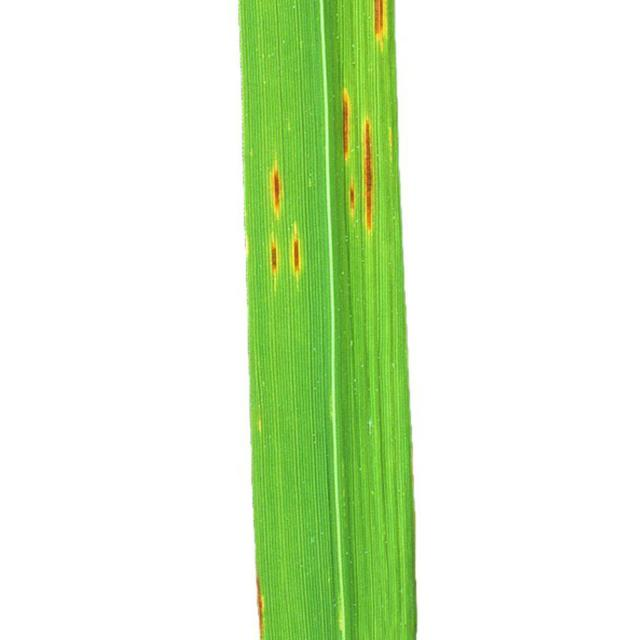Narrow brown: (206, 0, 436, 640)
